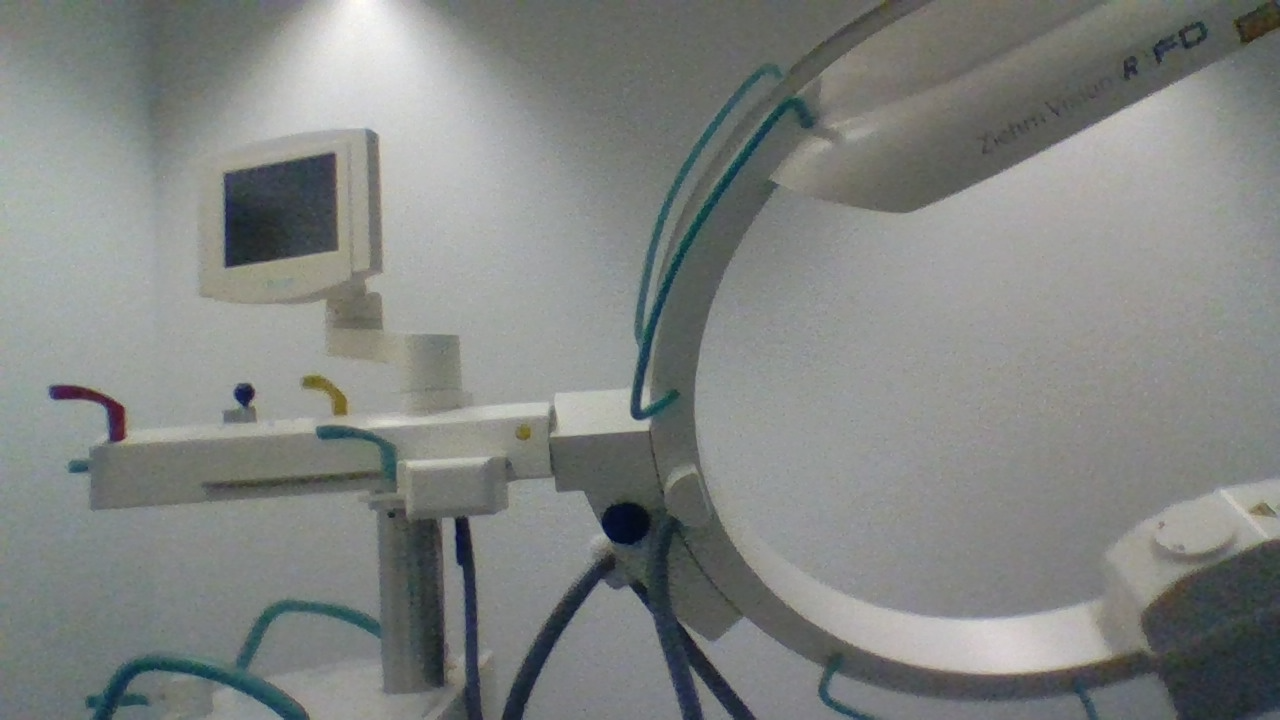carmBACK: (78, 670, 213, 720)
carmLOCK: (599, 502, 654, 547)
carmSCREEN: (195, 126, 380, 306)
